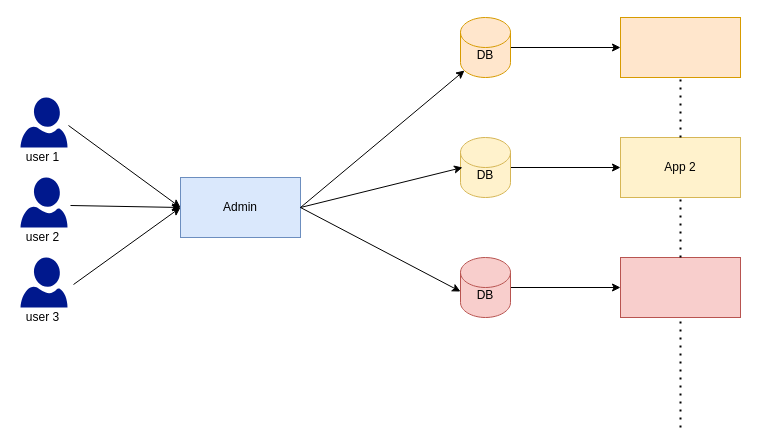
The diagram is 758 pixels wide and 447 high, and some of its shapes have lost their labels. The shapes that lost their labels are listed below. From the top down, each one's centre as x and y in pixels, then its label:
At (x=680, y=47): "App 1".
At (x=680, y=287): "App 3".
